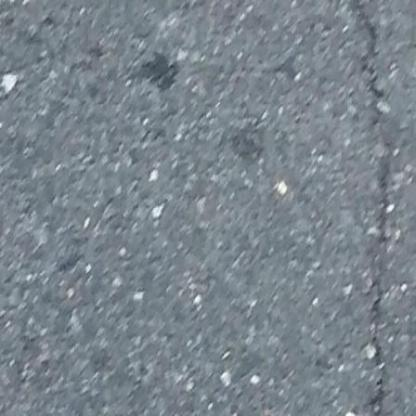Cracks: (317, 1, 416, 416)
